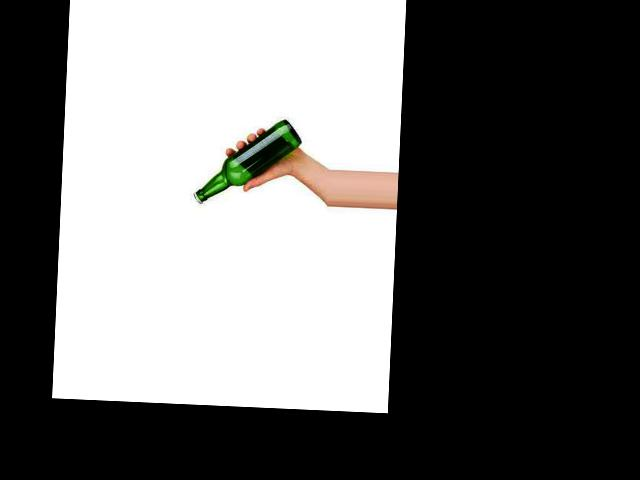beer: (195, 117, 304, 208)
